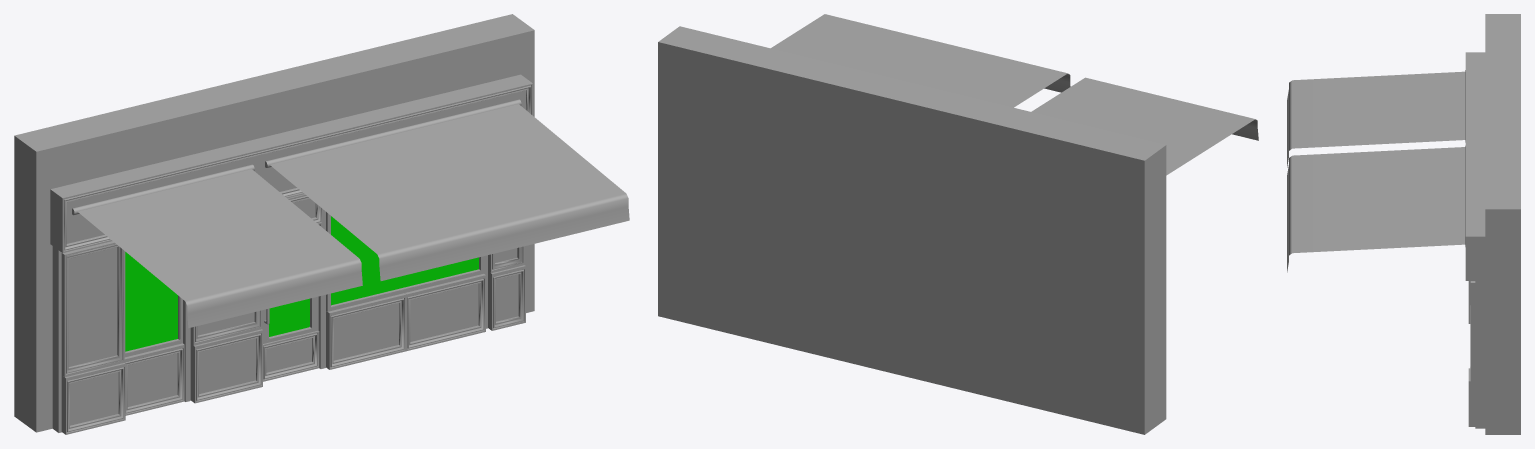
The model's file is SM_Devanture_4.fbx.
3 views of the same model, side by side, from view 1: azimuth 30°, elevation 25°; view 2: azimuth 150°, elevation 25°; view 3: azimuth 270°, elevation 25° (orthographic). The views are drawn at different scales.
Parts seen in each view (by area): view 1: pCube59, pPlane3, pPlane4, pCube60, pCube61, pCube67, pCube68, polySurface25, pCube64, polySurface33, pCube62, pCube63 (+10 smaller); view 2: pCube59, pPlane3, pPlane4; view 3: pPlane3, pCube59, pPlane4, pCube60, polySurface35, pCube69, pCube70.
Boxes of the visible parts, box(x1,y1,x2,y2) form: pCube59: box(14, 14, 534, 432); pPlane3: box(270, 104, 629, 280); pPlane4: box(78, 169, 362, 328); pCube60: box(50, 74, 532, 252); pCube61: box(61, 241, 124, 377); pCube67: box(326, 293, 406, 369); pCube68: box(404, 274, 485, 351); polySurface25: box(124, 251, 182, 357); pCube64: box(190, 329, 262, 403); polySurface33: box(326, 212, 483, 311); pCube62: box(61, 363, 125, 434); pCube63: box(124, 343, 184, 415); pCube59: box(658, 26, 1166, 434); pPlane3: box(771, 14, 1070, 107); pPlane4: box(1031, 77, 1258, 175); pPlane3: box(1287, 147, 1465, 272); pCube59: box(1485, 14, 1520, 434); pPlane4: box(1287, 71, 1465, 167); pCube60: box(1465, 52, 1485, 280); polySurface35: box(1475, 281, 1485, 428); pCube69: box(1470, 281, 1475, 381); pCube70: box(1468, 368, 1475, 426).
Bounding box in the file's own units: 1300 × 700 × 657.
